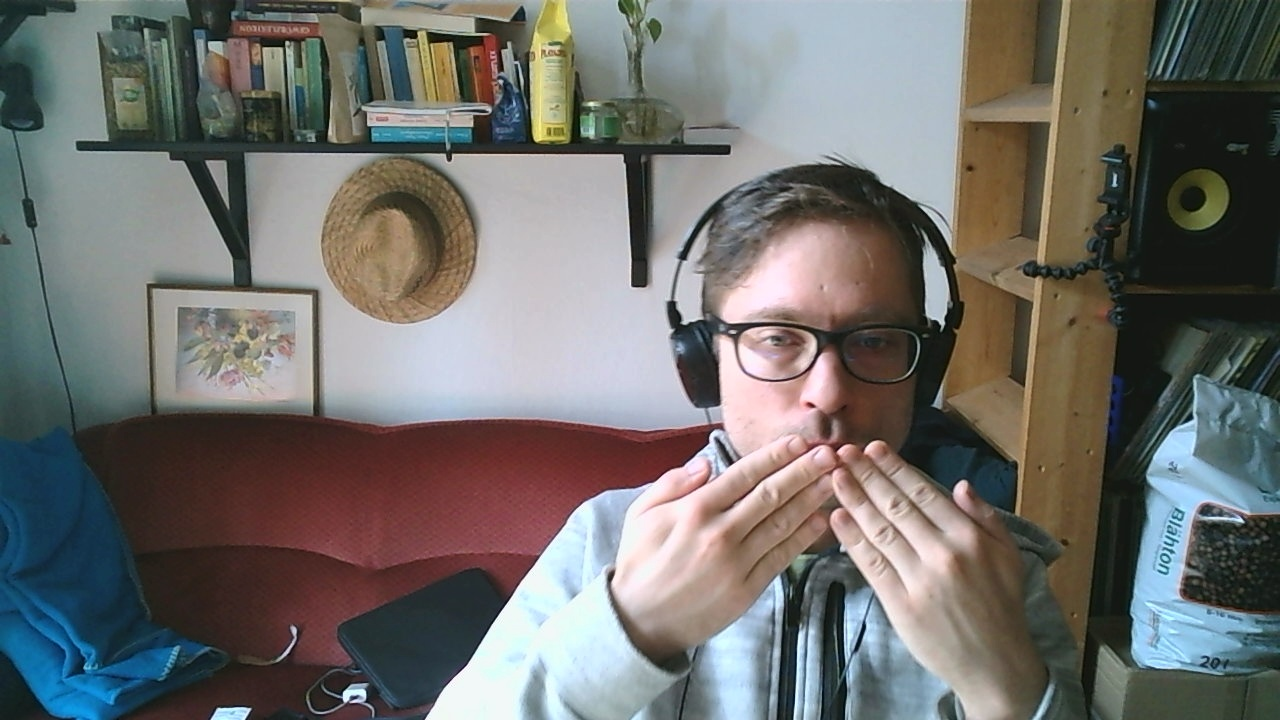thanks: (615, 435, 1022, 676)
